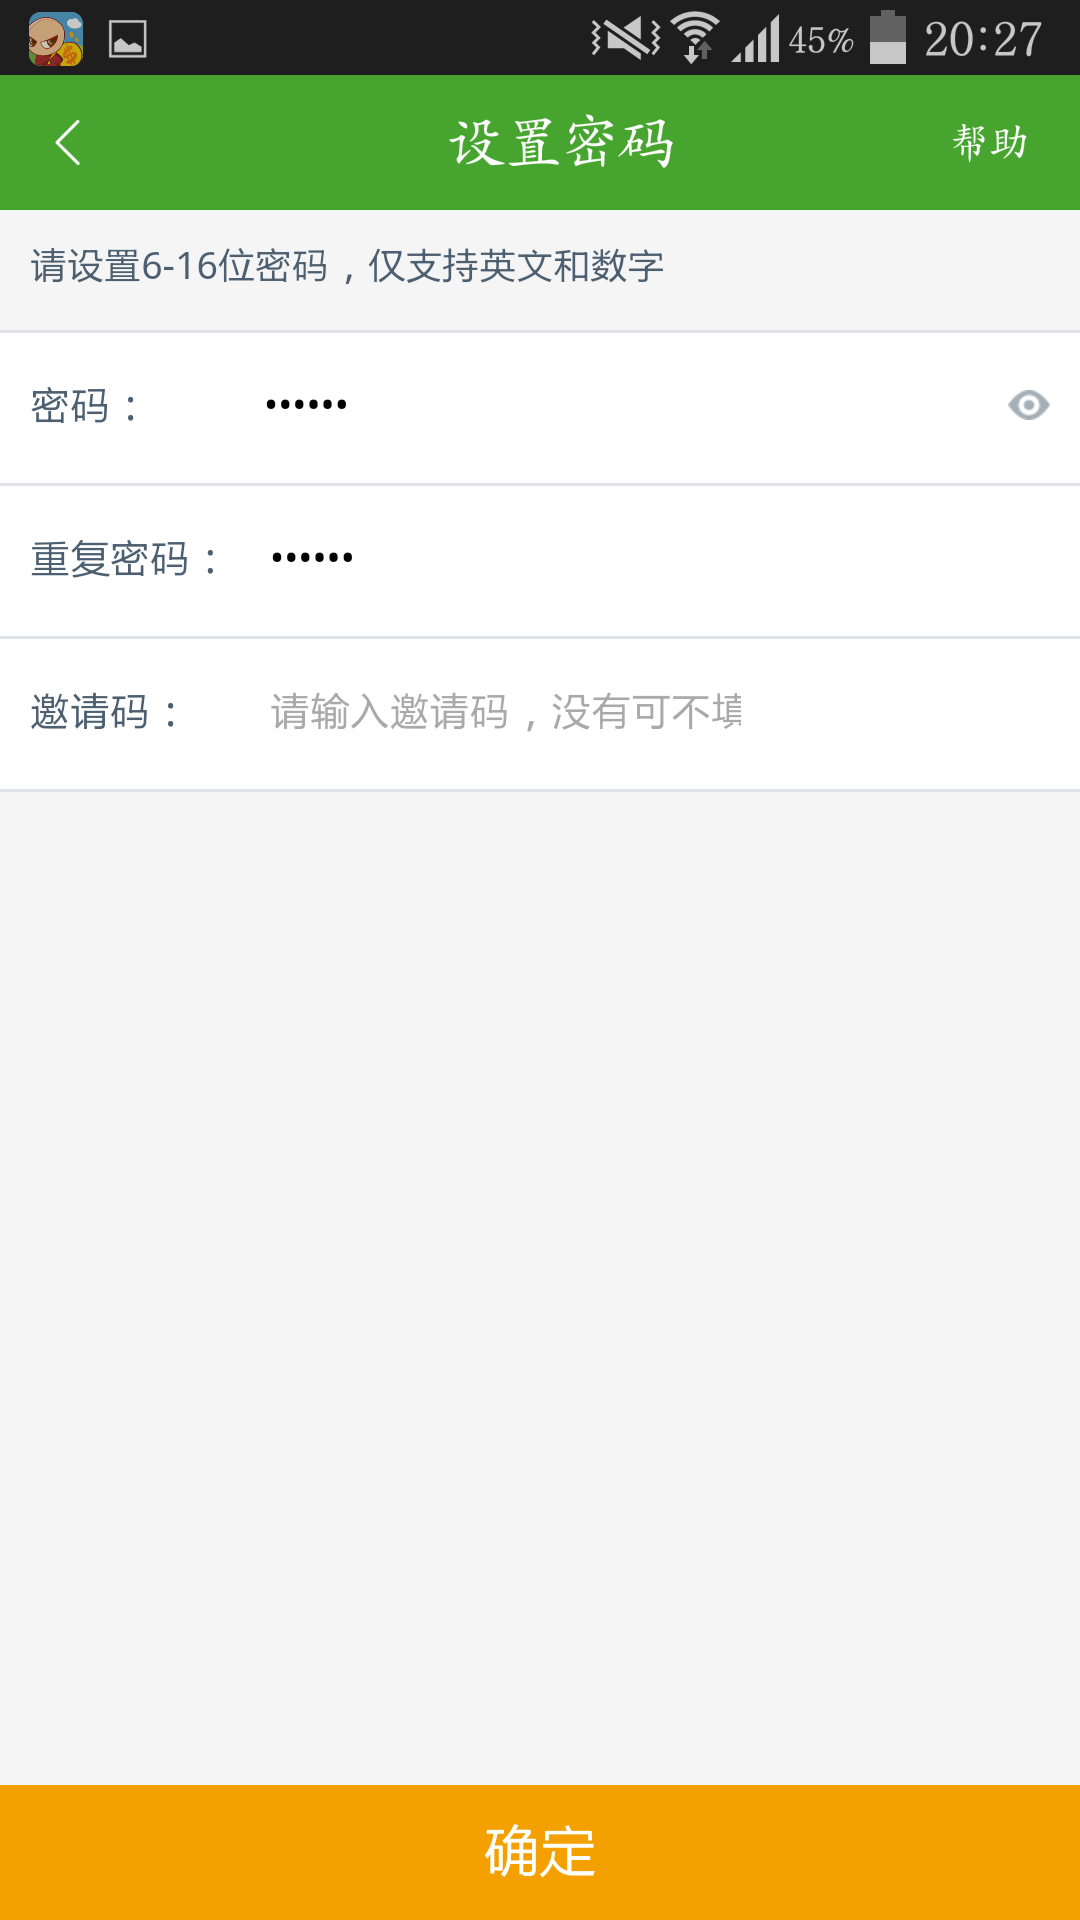textview: (7, 212, 1080, 808)
